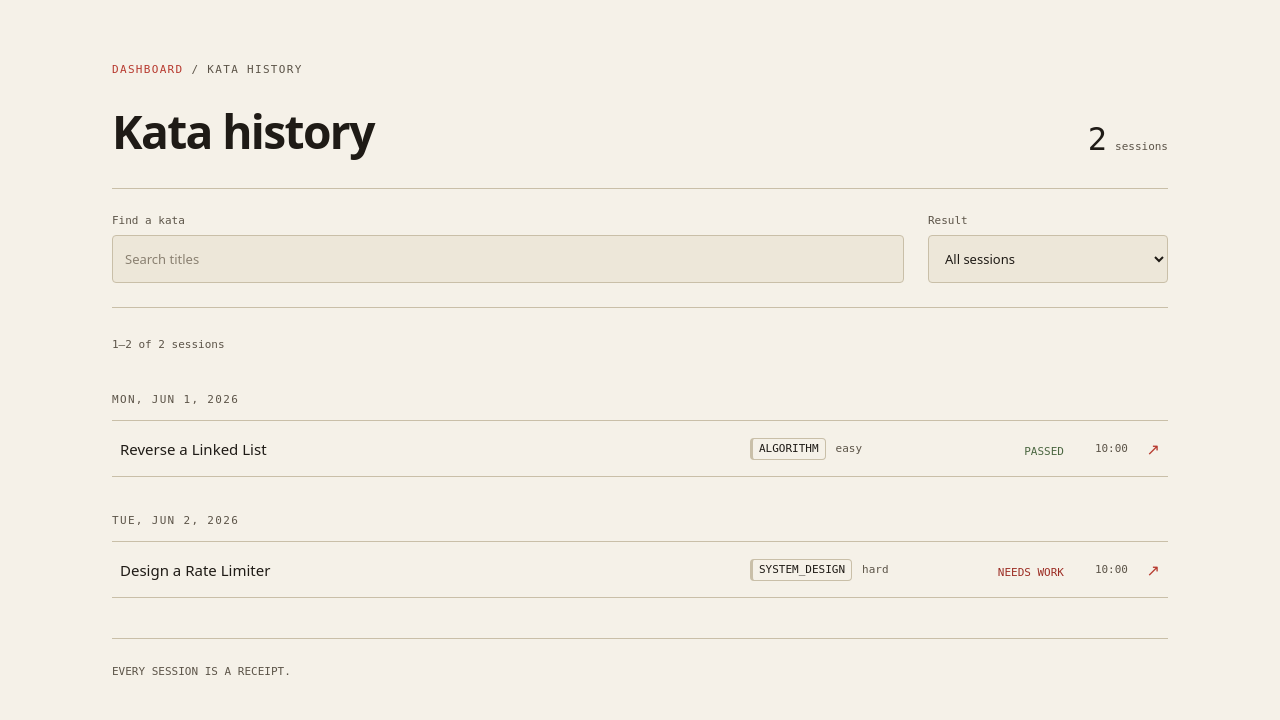
Test: HistoryPage › never shows rows from other filters when a filtered request fails
Expected: the text "Reverse a Linked List" is shown, [120, 439, 267, 459]
Select "Passed" in the dropdown labelled "Result" at (1048, 259), box [928, 235, 1168, 283]
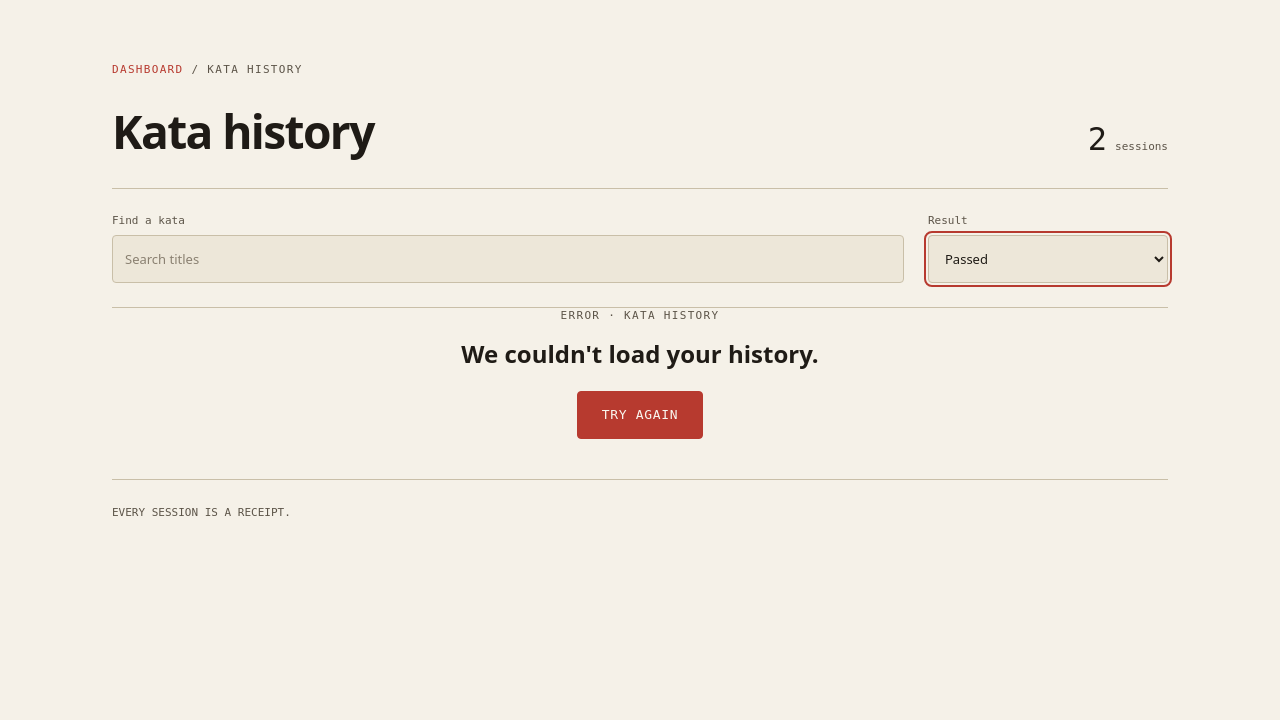
Now the heading "We couldn't load your history." is shown, box [461, 337, 819, 370]
Now the link "Reverse a Linked List" is gone
